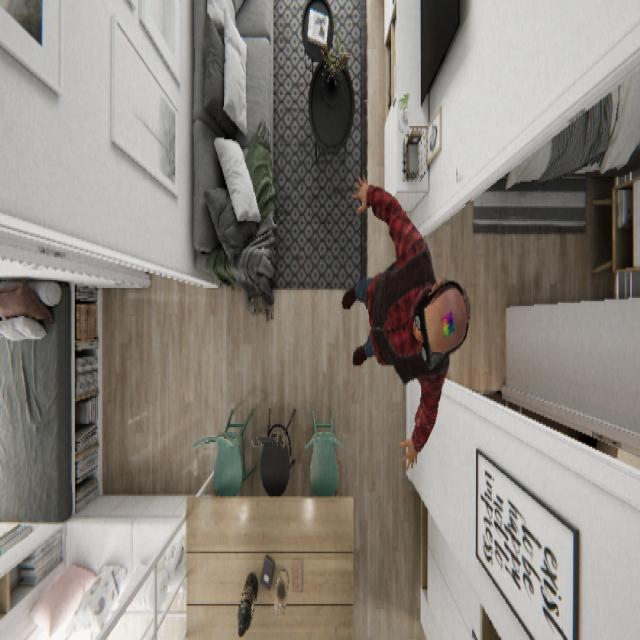Colored-Marker: (440, 306, 455, 339)
Human: (341, 170, 471, 473)
